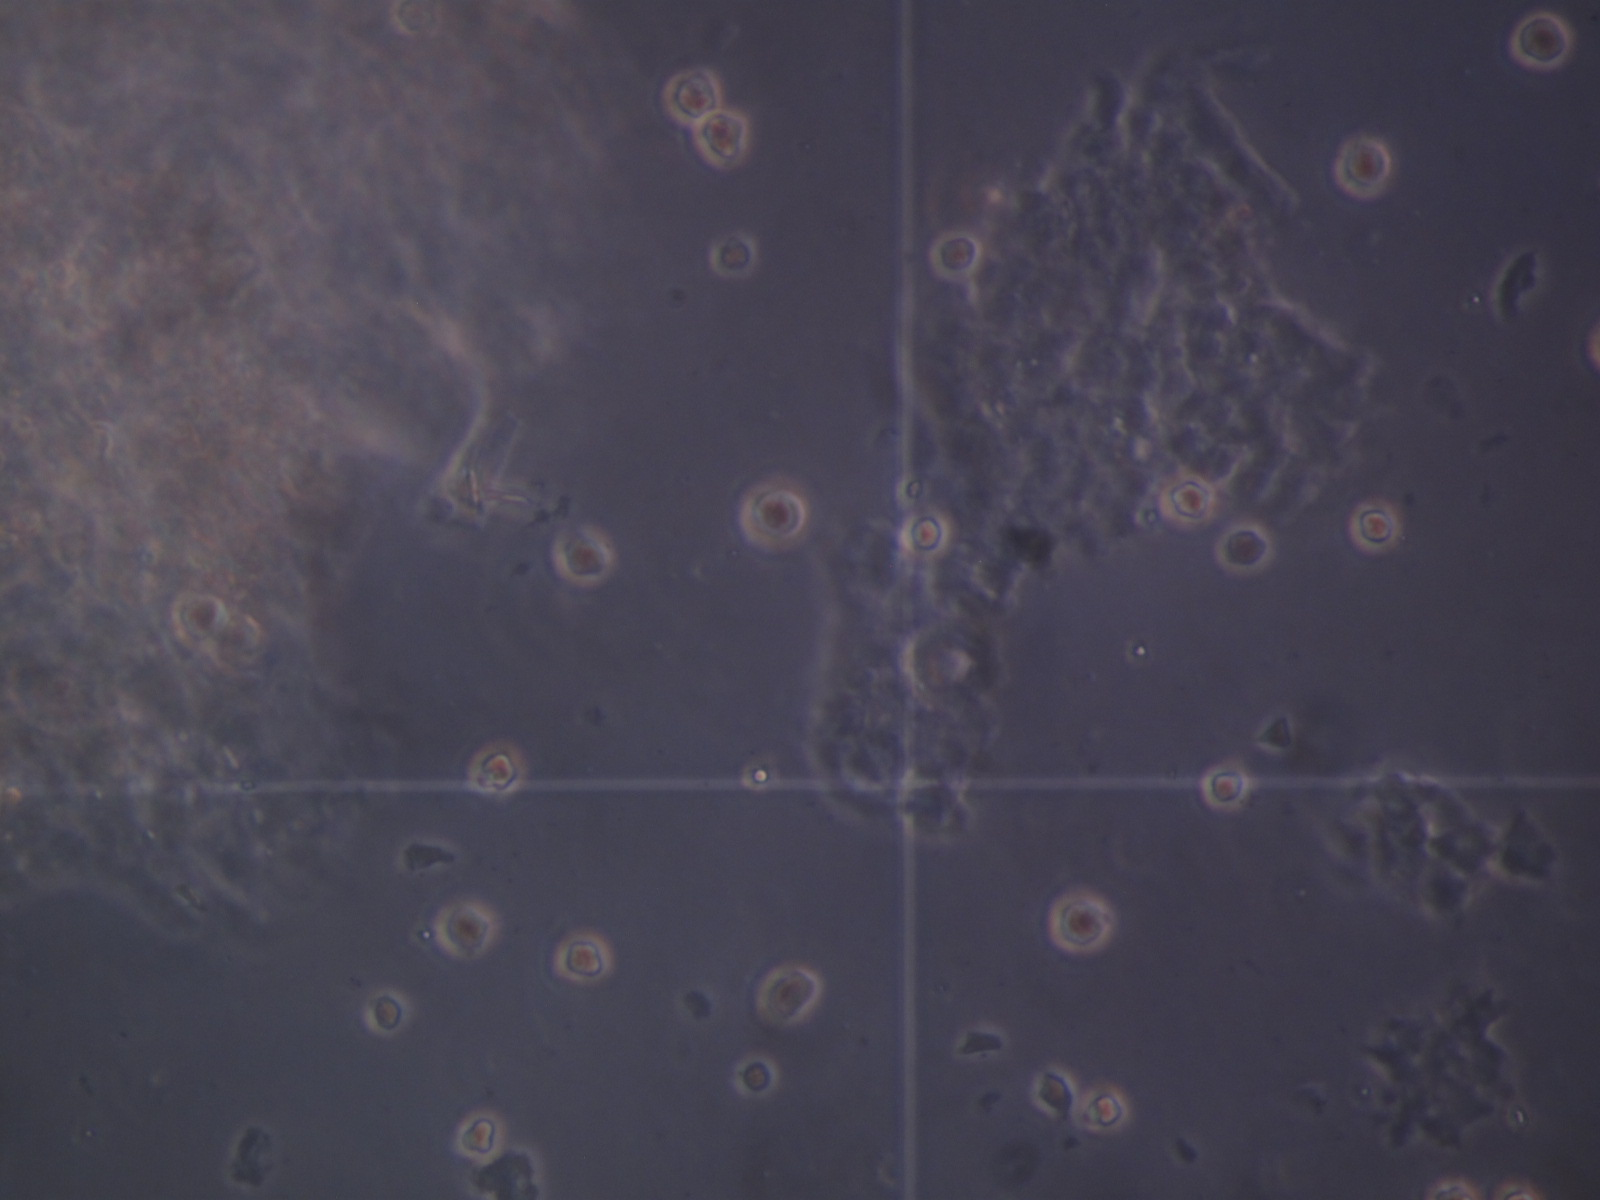hemo: (740, 478, 810, 550), (207, 609, 266, 679), (1332, 131, 1392, 199), (1049, 887, 1110, 954), (758, 962, 823, 1024), (661, 68, 723, 129), (433, 900, 494, 959), (1512, 13, 1574, 71), (553, 528, 615, 585), (695, 107, 750, 171), (467, 740, 523, 799), (554, 928, 614, 983), (171, 590, 227, 648), (1216, 523, 1274, 576), (1029, 1064, 1078, 1121), (1349, 500, 1401, 553), (929, 229, 983, 279), (1162, 476, 1214, 526), (363, 984, 411, 1037), (708, 229, 758, 279), (900, 512, 951, 558), (1199, 763, 1252, 808), (459, 1113, 501, 1163), (733, 1054, 781, 1098), (1083, 1087, 1128, 1132)
